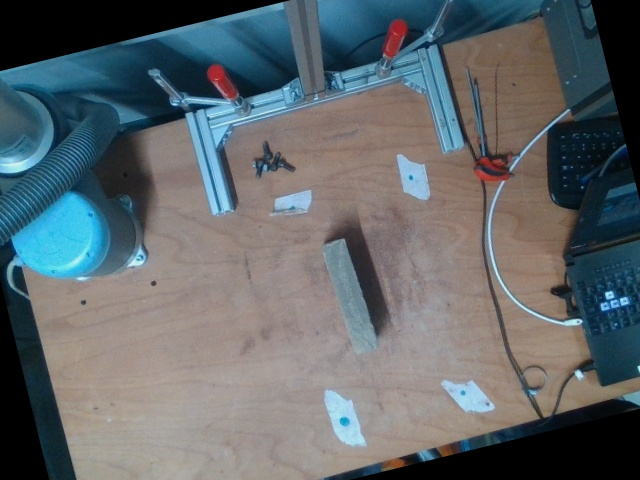brick-side: (320, 237, 379, 351)
